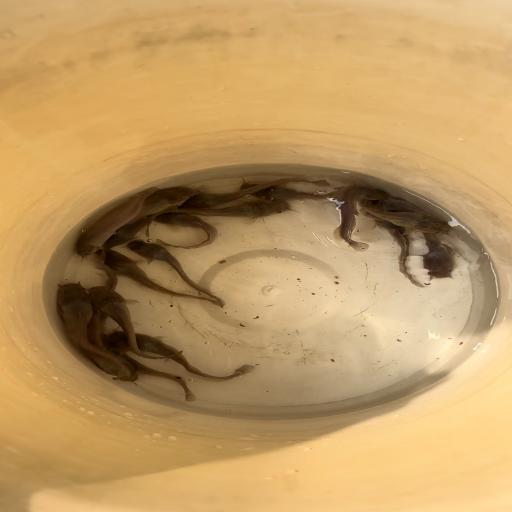lele: (107, 328, 256, 381), (56, 282, 133, 380), (100, 248, 225, 308), (82, 263, 144, 382), (86, 284, 184, 359), (97, 333, 198, 403), (126, 240, 227, 304), (74, 187, 160, 258), (140, 199, 294, 238), (180, 176, 328, 206), (322, 186, 390, 250), (368, 214, 426, 288), (348, 196, 453, 236), (112, 186, 197, 222), (234, 178, 348, 204), (153, 214, 218, 250), (416, 229, 458, 281), (364, 190, 430, 214), (101, 216, 152, 247)
